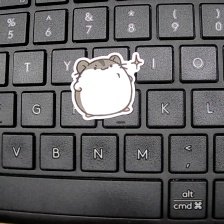mouse: (69, 51, 145, 121)
